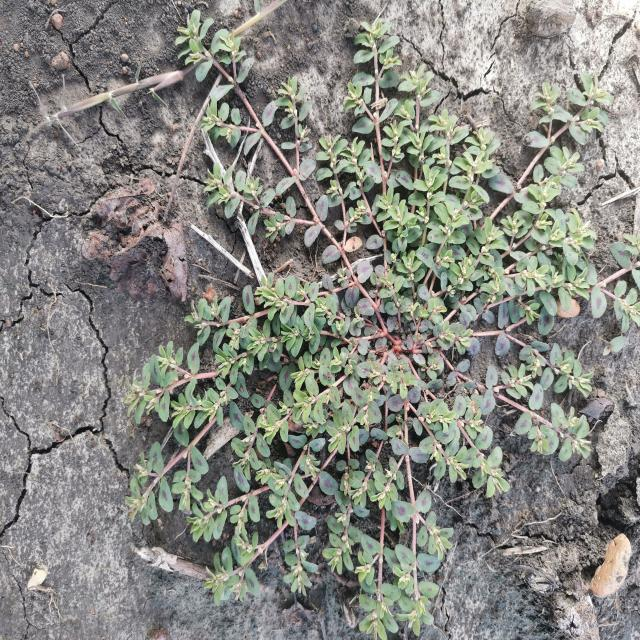SpottedSpurge: (118, 0, 638, 637)
